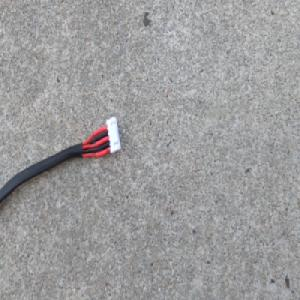Wire: (0, 112, 122, 211)
